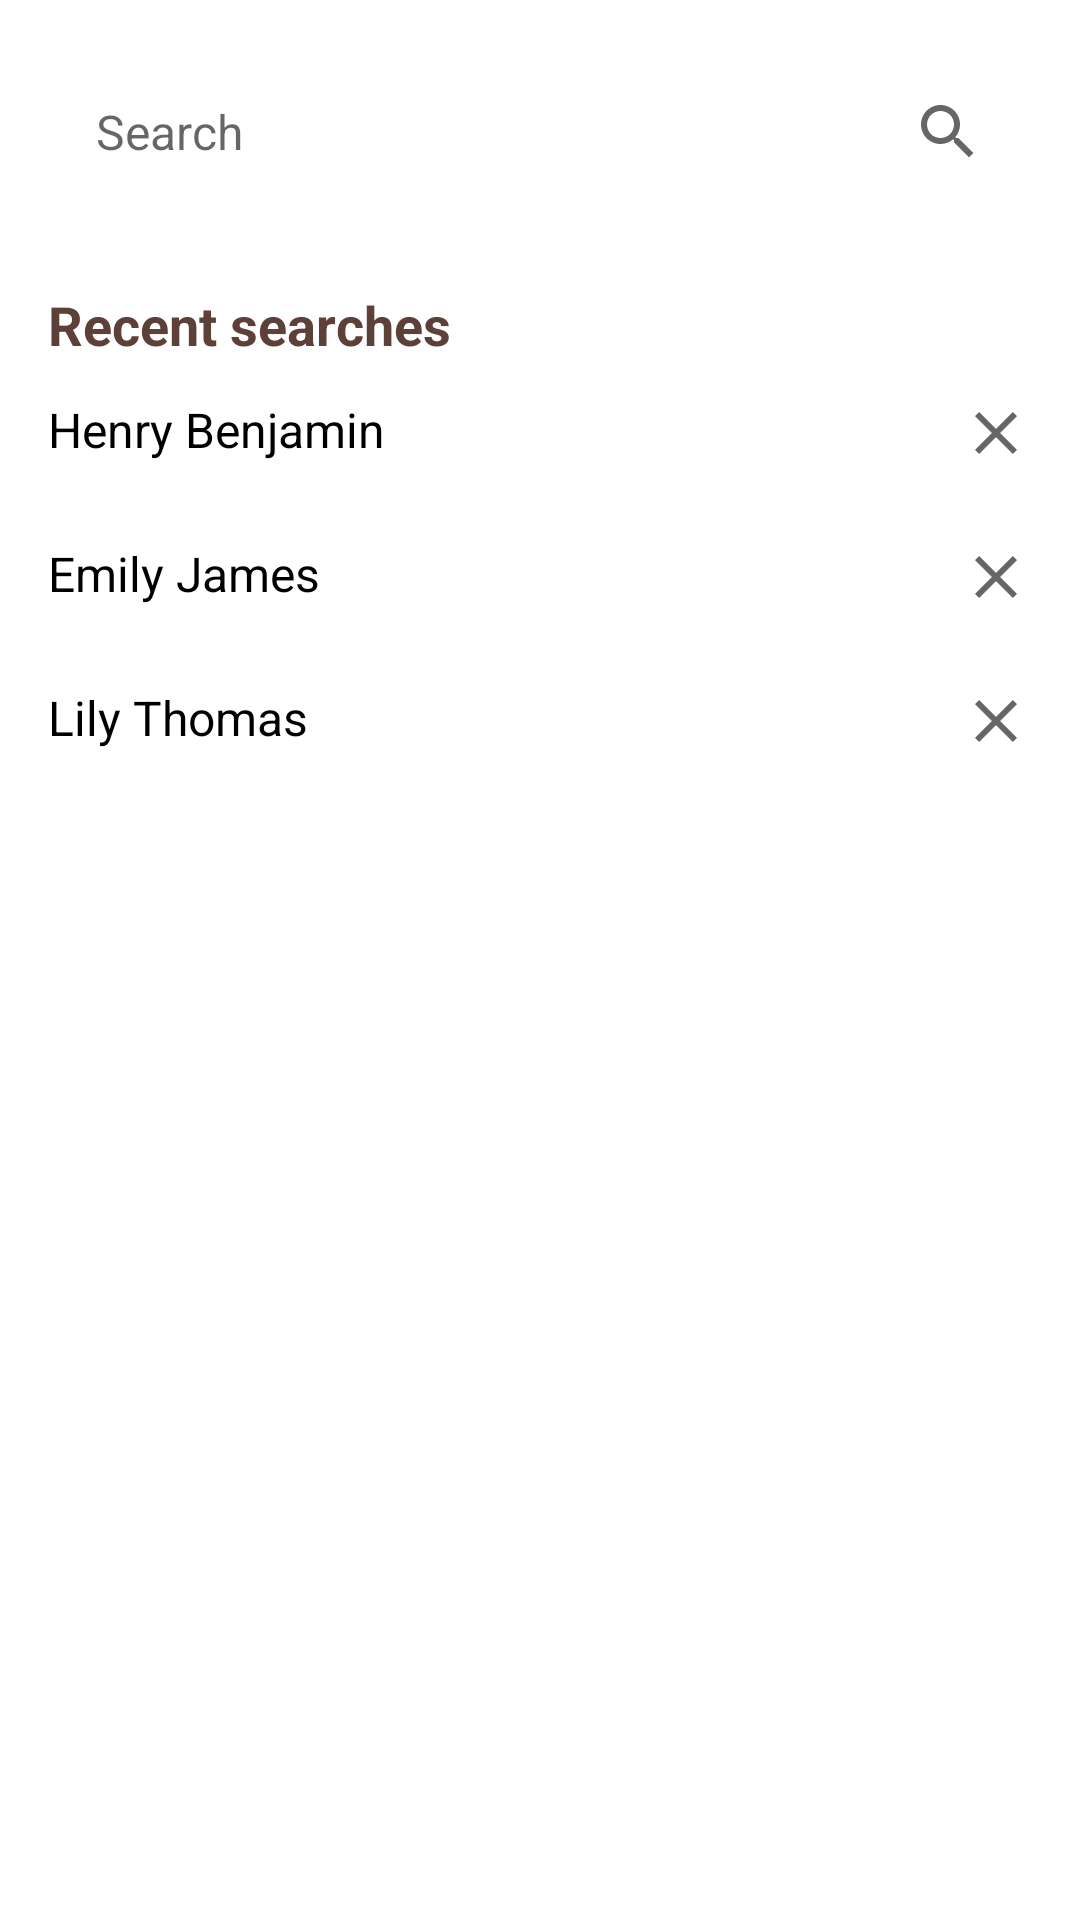

Where icons sit on this 1080×1920 app screen, as (x1, y1, x2, y2):
close: (975, 412, 1017, 454), (975, 556, 1017, 598), (975, 700, 1017, 742)
